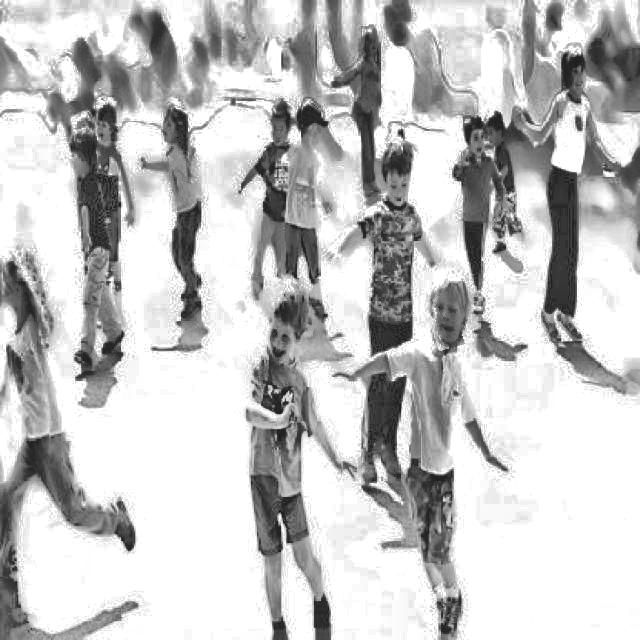happy: (235, 276, 325, 386), (426, 286, 471, 350), (92, 101, 122, 155)
neutral: (253, 100, 295, 150)
